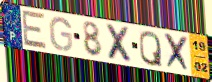8: (82, 20, 105, 58)
E: (21, 9, 48, 51)
G: (48, 16, 74, 52)
Q: (139, 30, 164, 68)
X: (104, 22, 136, 65), (163, 31, 192, 74)
